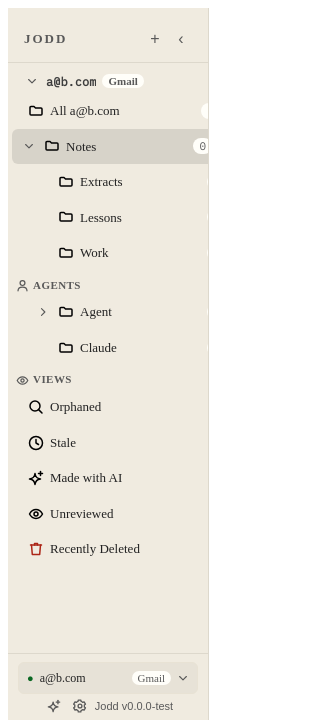
Scenario: workflow folder protection after extract filing › keeps __Claude__ protected — jodd-mcp writes there
Click the button named "Expand". click: point(43, 312)
box: [37,306,49,318]
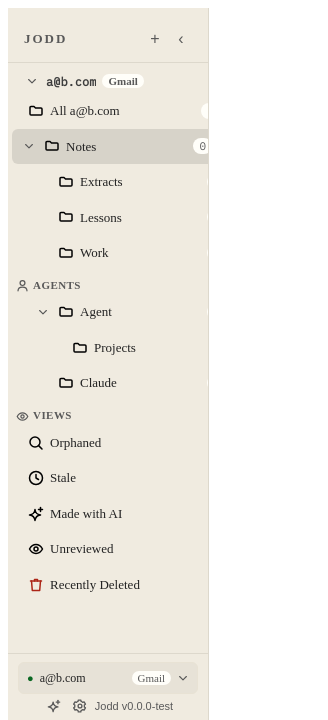
Right-click the button with class "folder-item" showing "Claude 0" at point(98, 383), box [58,375,226,391]
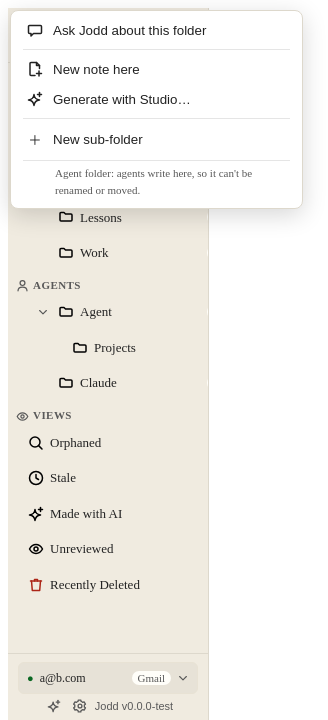
expect the text with class "menu-reason" reads "Agent folder: agents write here, so it can't be renamed or moved.": met, box [55,167,252,196]
